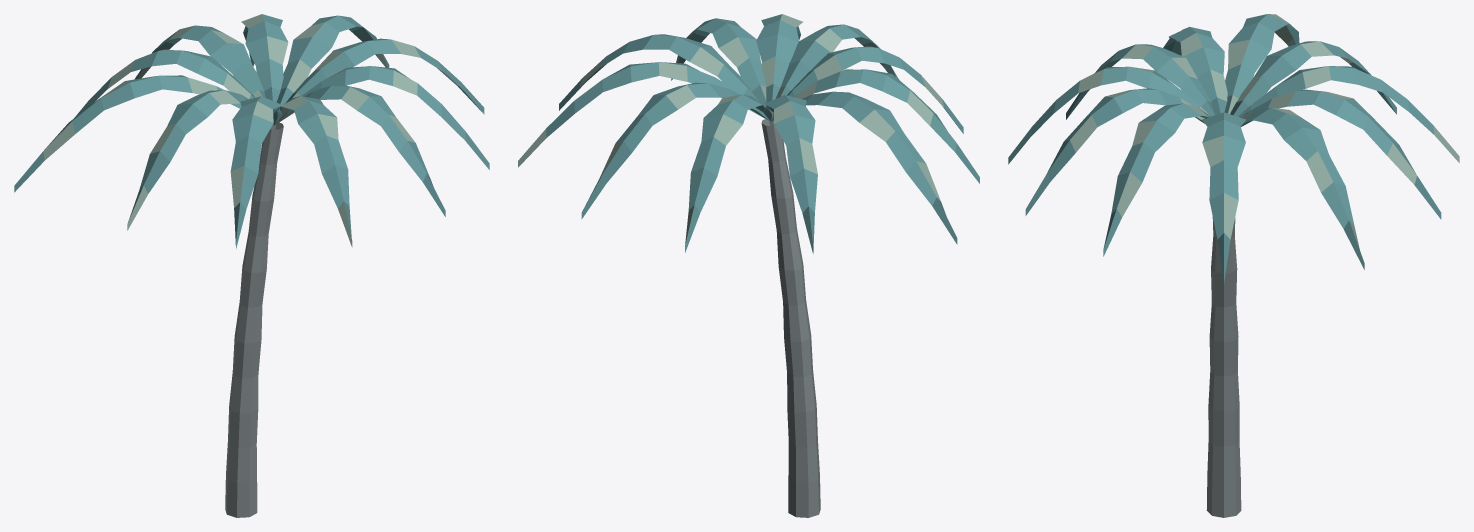
Rendered from palm-0.glb.
3 views of the same model, side by side, from view 1: azimuth 30°, elevation 25°; view 2: azimuth 150°, elevation 25°; view 3: azimuth 270°, elevation 25° (orthographic). The views are drawn at different scales.
Parts seen in each view (by area): view 1: Palm_Crown_0, Palm_Trunk_0; view 2: Palm_Crown_0, Palm_Trunk_0; view 3: Palm_Crown_0, Palm_Trunk_0.
Part boxes in pixels (<box>): Palm_Crown_0: <box>14,14,489,248</box>; Palm_Trunk_0: <box>225,122,283,517</box>; Palm_Crown_0: <box>518,14,979,253</box>; Palm_Trunk_0: <box>761,119,820,517</box>; Palm_Crown_0: <box>1008,14,1459,283</box>; Palm_Trunk_0: <box>1206,217,1241,517</box>.
Bounding box in the file's own units: 4.2 × 4.07 × 3.66.
